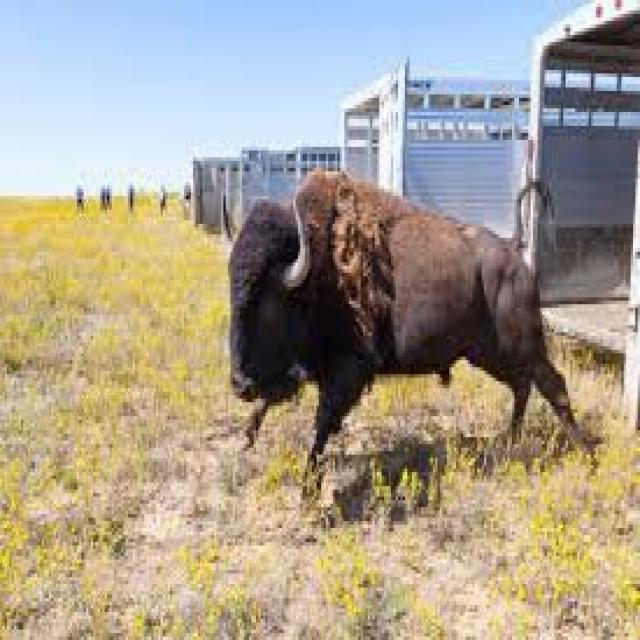Bison: (215, 148, 604, 509)
